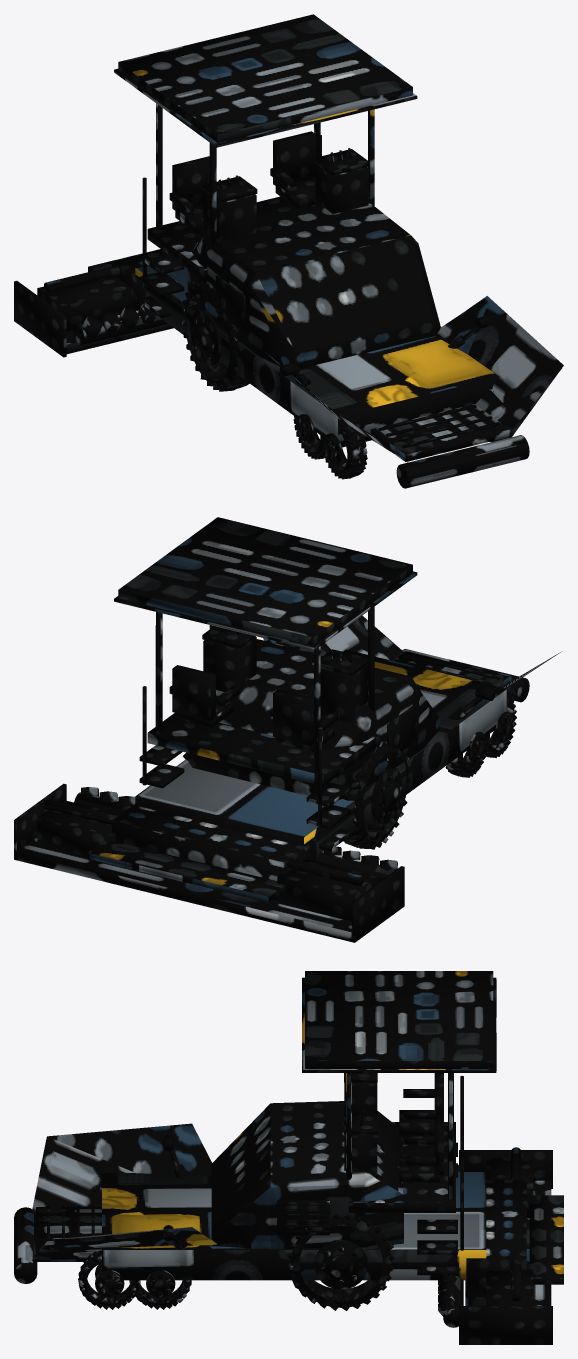
The model's file is asphalt_paver.lod1.obj.
The picture shows the model from 3 angles, top to bottom: view 1: azimuth 30°, elevation 25°; view 2: azimuth 150°, elevation 25°; view 3: azimuth 270°, elevation 25°; orthographic projection. The views are drawn at different scales.
Visible parts, largest first — view 1: asphalt_paver; view 2: asphalt_paver; view 3: asphalt_paver.
Boxes of the visible parts, x1,y1,x2,y2 form: asphalt_paver: (14,14,563,488); asphalt_paver: (14,517,560,942); asphalt_paver: (14,971,563,1344).
Size of the model in its own units: 4.74 by 3.61 by 7.01.
Materials: 1 (1 with a texture image).
